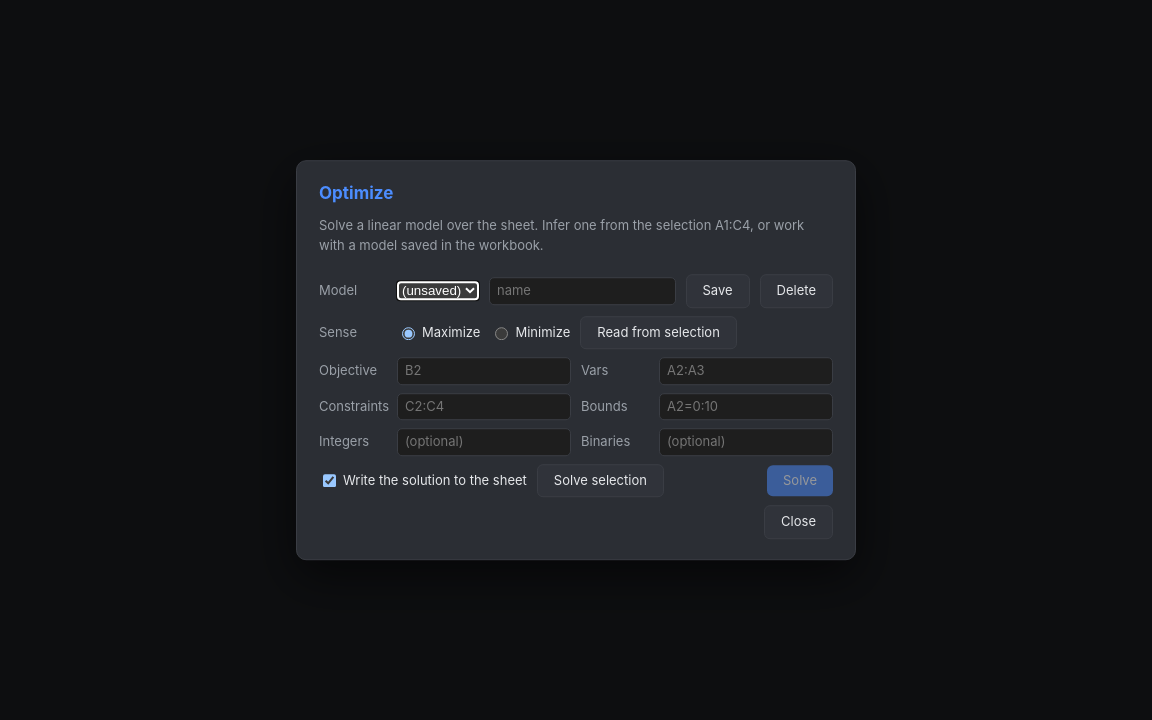
reading from the selection fills the model without solving
The image size is (1152, 720).
Click the button "Read from selection" at (658, 333), box x1=580 y1=316 x2=737 y2=349
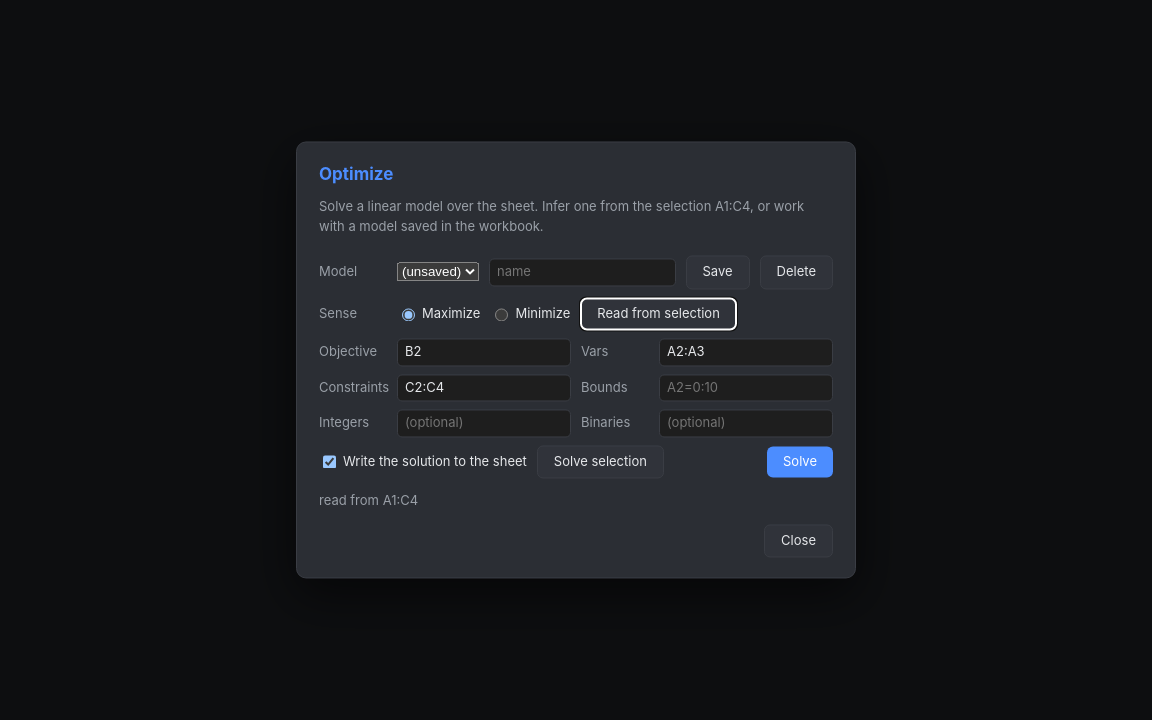
Now the field named "Objective" holds "B2", box x1=397 y1=338 x2=571 y2=366
Now the field named "Decision variables" holds "A2:A3", box x1=659 y1=338 x2=833 y2=366
Now the field named "Constraints" holds "C2:C4", box x1=397 y1=374 x2=571 y2=402
